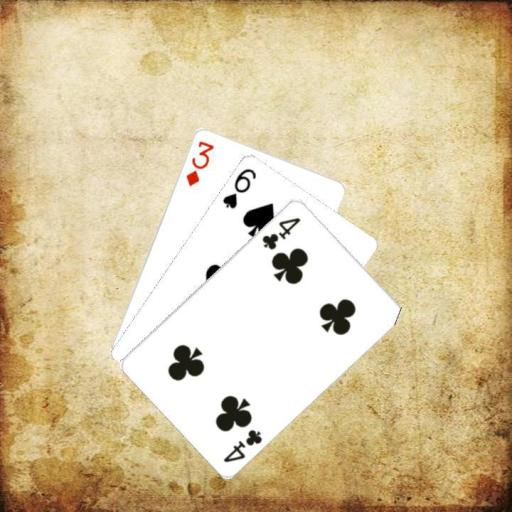3D: (182, 137, 216, 188)
4C: (220, 425, 264, 464), (258, 213, 302, 251)
6S: (219, 164, 258, 210)
